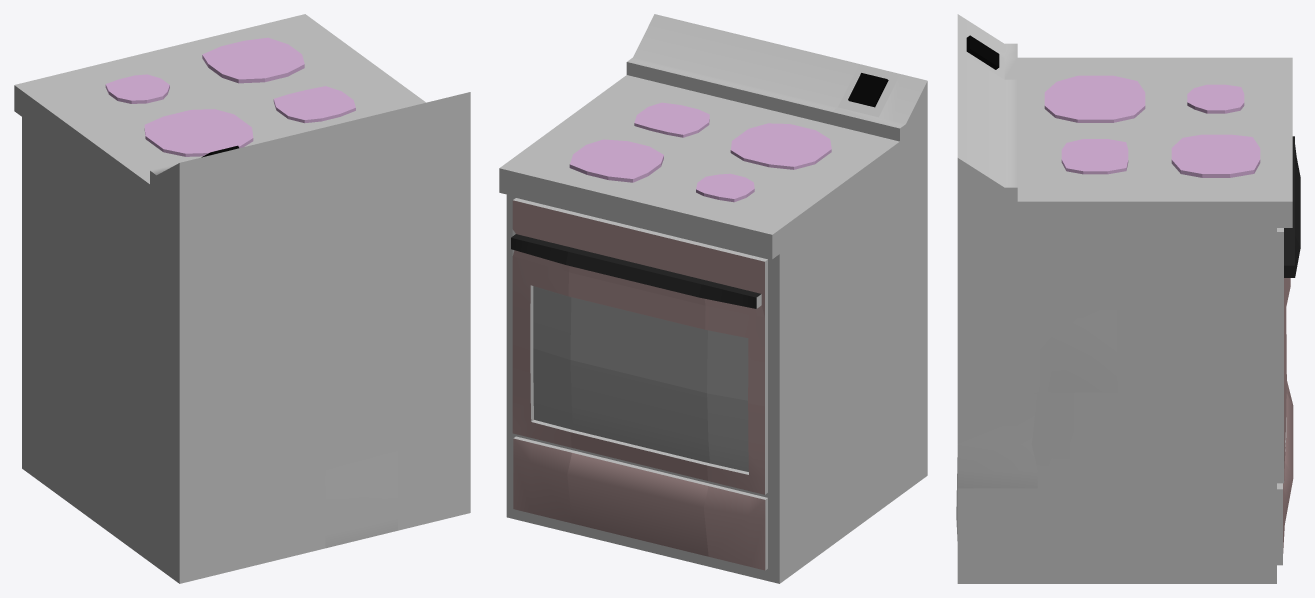
The model's file is ObsOven01.fbx.
3 renders of one model, left to right at view 1: azimuth 30°, elevation 25°; view 2: azimuth 150°, elevation 25°; view 3: azimuth 270°, elevation 25°, orthographic. The views are drawn at different scales.
Visible parts, largest first — view 1: pCube3; view 2: pCube3; view 3: pCube3.
Boxes of the visible parts, left/top/right/bottom form: pCube3: left=14, top=14, right=470, bottom=583; pCube3: left=499, top=14, right=927, bottom=583; pCube3: left=956, top=14, right=1300, bottom=583.
Bounding box in the file's own units: 69.6 × 95.66 × 70.05.
